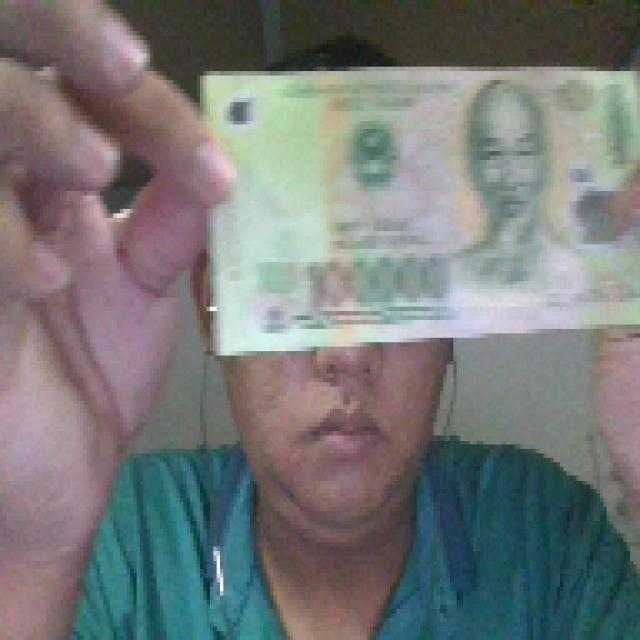100 000 VND: (193, 58, 637, 360)
